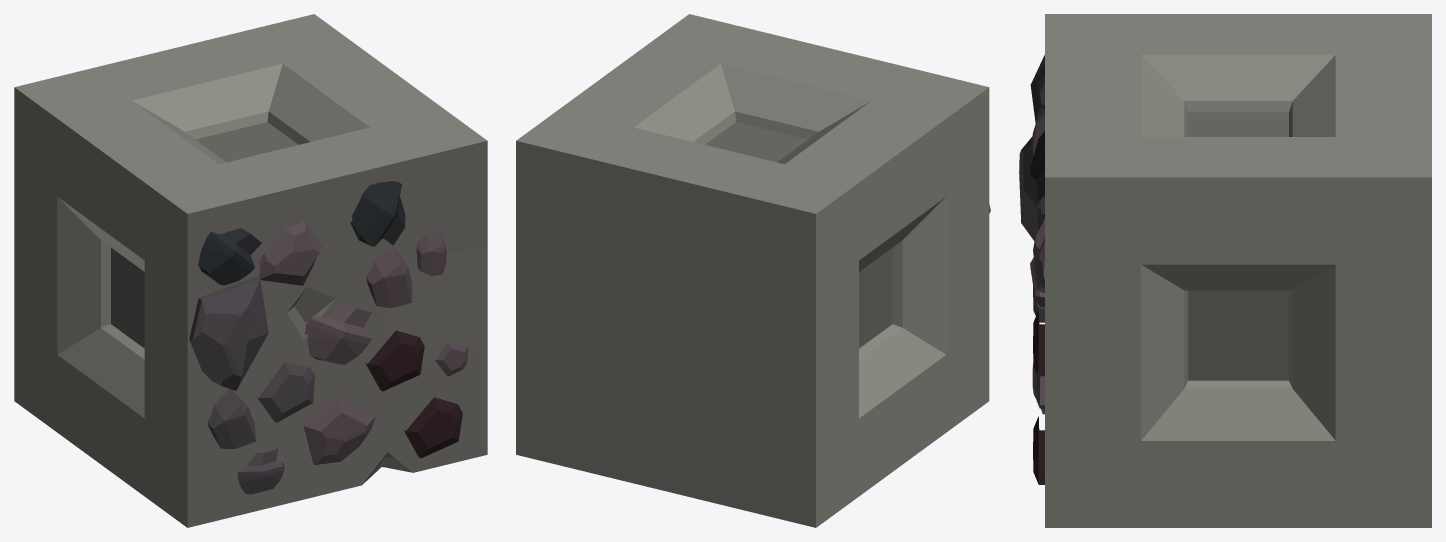
3 views of the same model, side by side, from view 1: azimuth 30°, elevation 25°; view 2: azimuth 150°, elevation 25°; view 3: azimuth 270°, elevation 25° (orthographic). The views are drawn at different scales.
Visible parts, largest first — view 1: Cube.117; view 2: Cube.117; view 3: Cube.117.
Part boxes in pixels (x1,y1,x2,y2): Cube.117: (14,14,487,527); Cube.117: (516,14,990,527); Cube.117: (1019,14,1431,527).
Bounding box in the file's own units: 1 × 1 × 1.07.
Materials: 1 (1 with a texture image).
